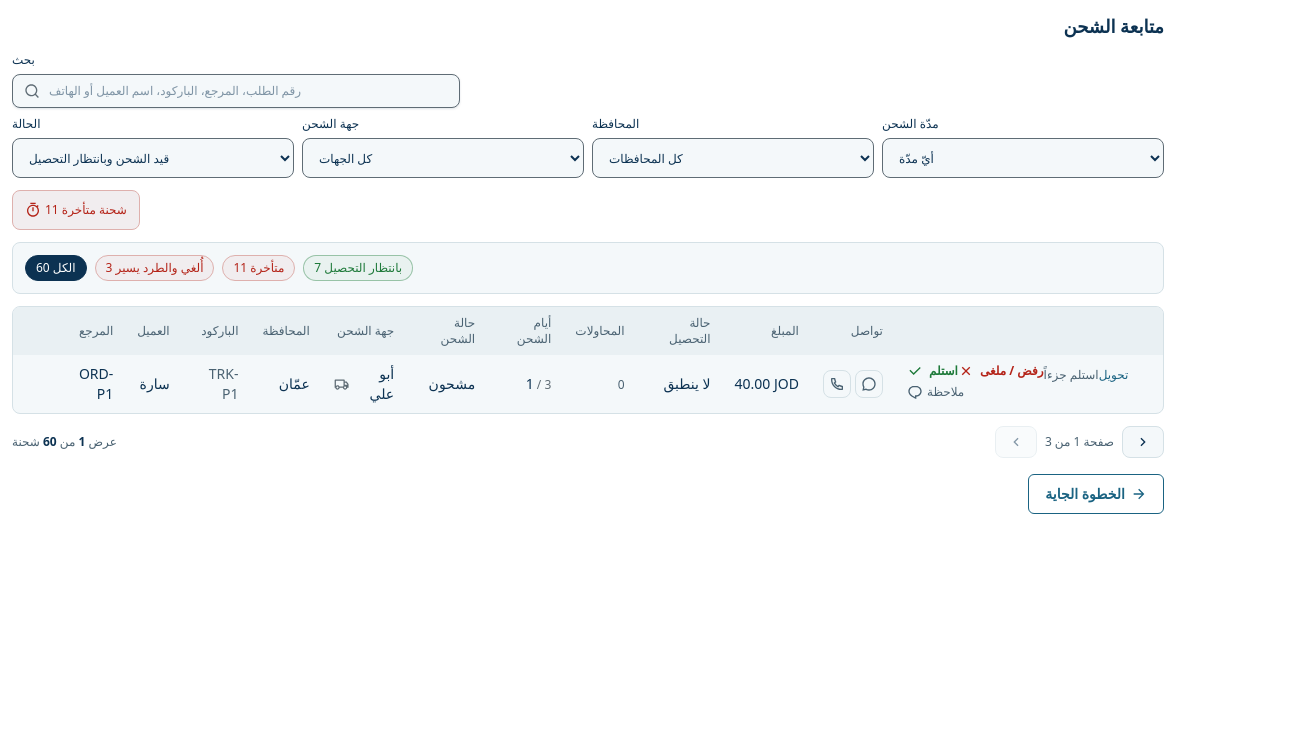
Scenario: the pages › and «التالي» turns the SAME list — it keeps the chip and the dropdowns
Check: the dropdown labelled "جهة الشحن" is shown, box [302, 138, 584, 178]
Click the button "متأخرة 11": {"x": 259, "y": 268} [222, 255, 295, 281]
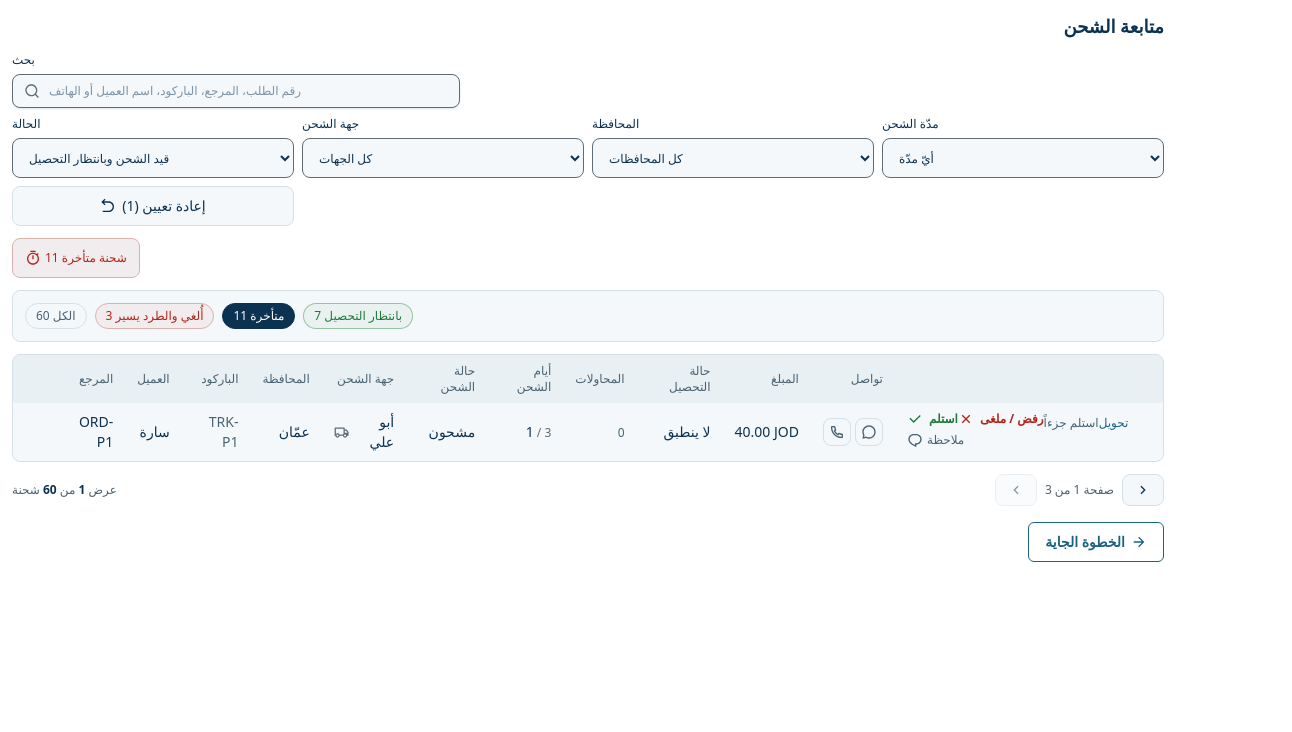
Select "أبو علي (40)" in the dropdown labelled "جهة الشحن": {"x": 443, "y": 158} [302, 138, 584, 178]
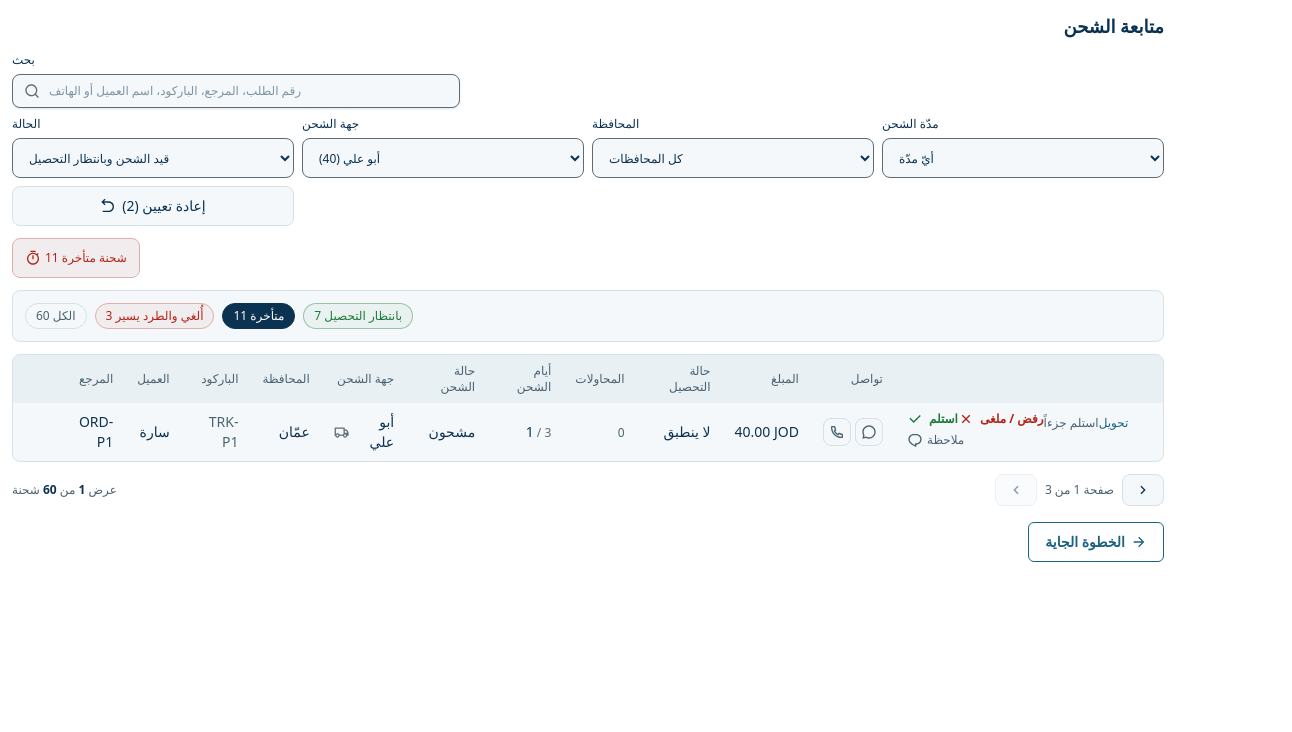
Click the button named "الصفحة التالية": {"x": 1143, "y": 490} [1122, 474, 1164, 506]
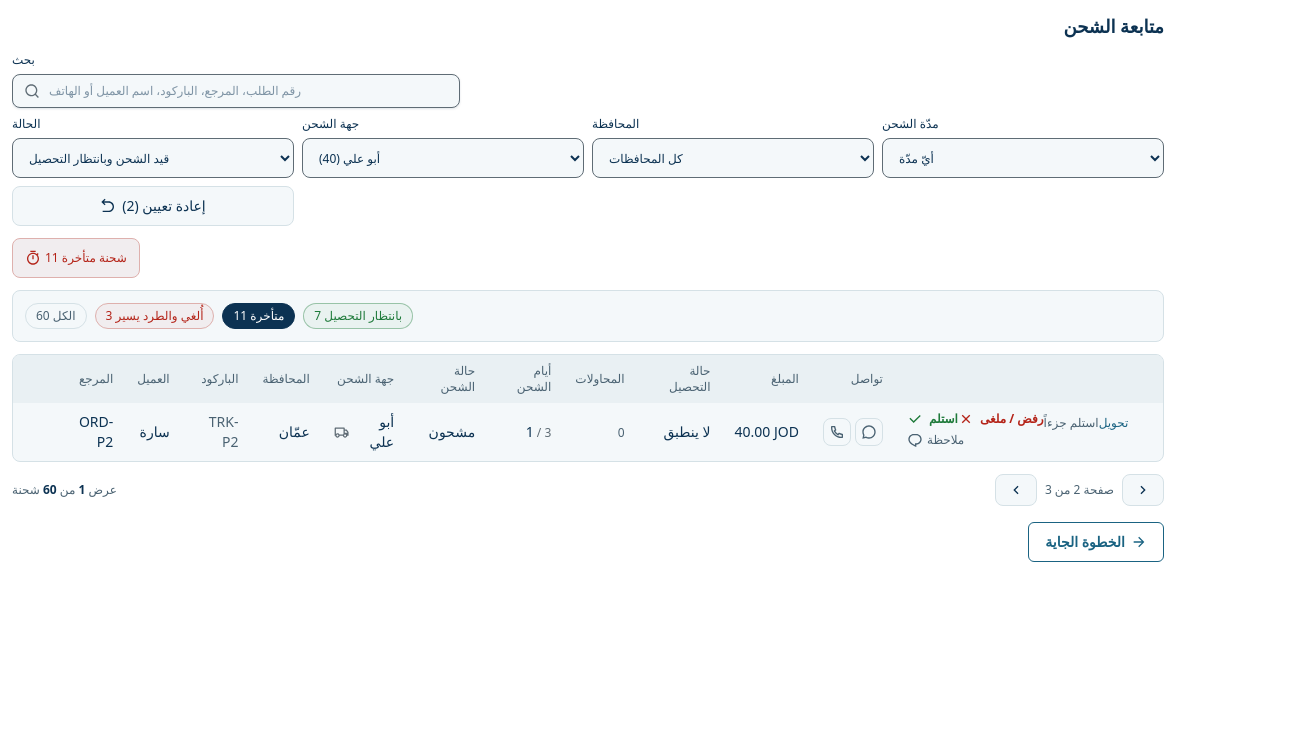
Check: the text "ORD-P2" is shown, box [79, 412, 113, 451]
